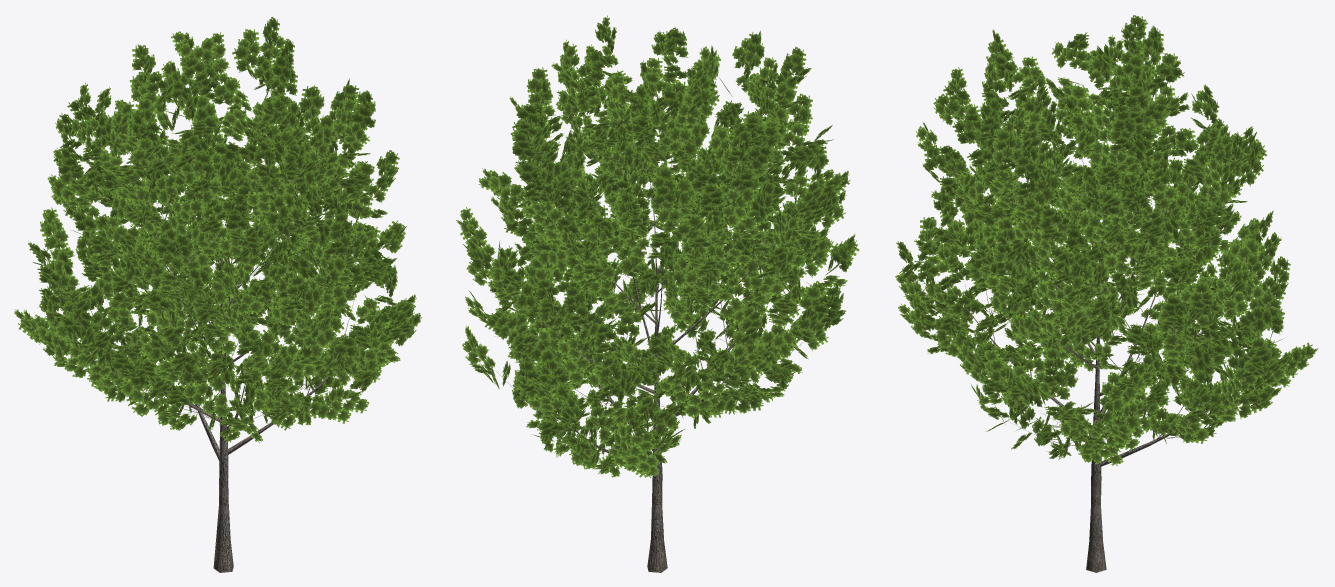
Rendered from Ahorn.glb.
3 views of the same model, side by side, from view 1: azimuth 30°, elevation 25°; view 2: azimuth 150°, elevation 25°; view 3: azimuth 270°, elevation 25° (orthographic).
Visible parts, largest first — view 1: Ahorn; view 2: Ahorn; view 3: Ahorn.
Part boxes in pixels (x1,y1,x2,y2): Ahorn: [14, 17, 421, 572]; Ahorn: [456, 15, 859, 572]; Ahorn: [895, 15, 1318, 572].
Bounding box in the file's own units: 1.91 × 2.6 × 1.94.
2 materials, 2 textured.
